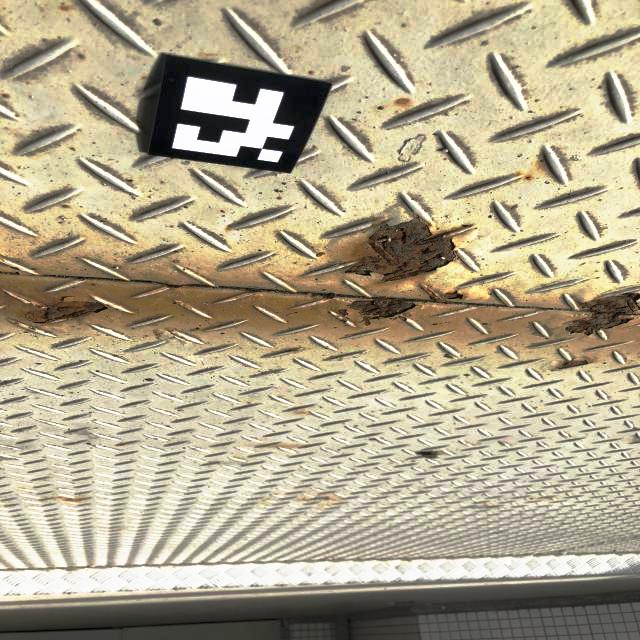Corrosion: (345, 216, 459, 285), (563, 292, 640, 338), (19, 296, 110, 325), (338, 295, 420, 326), (426, 287, 464, 302), (555, 360, 593, 371)
